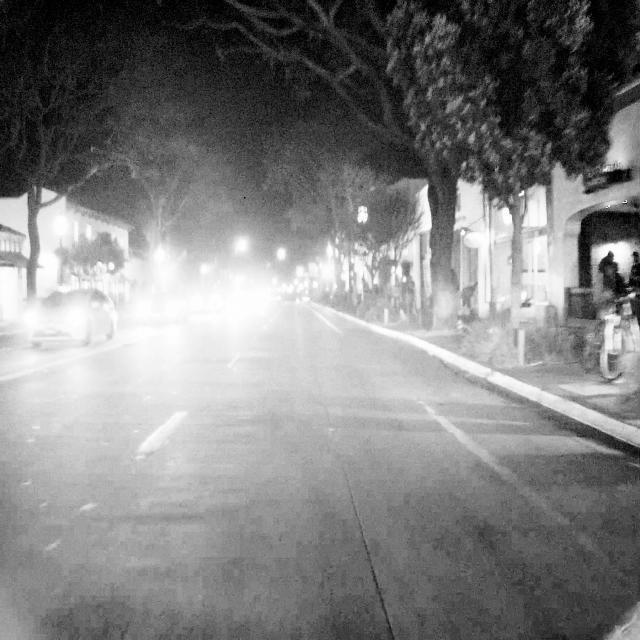Car: (21, 288, 122, 348)
Tree: (470, 0, 552, 368)
